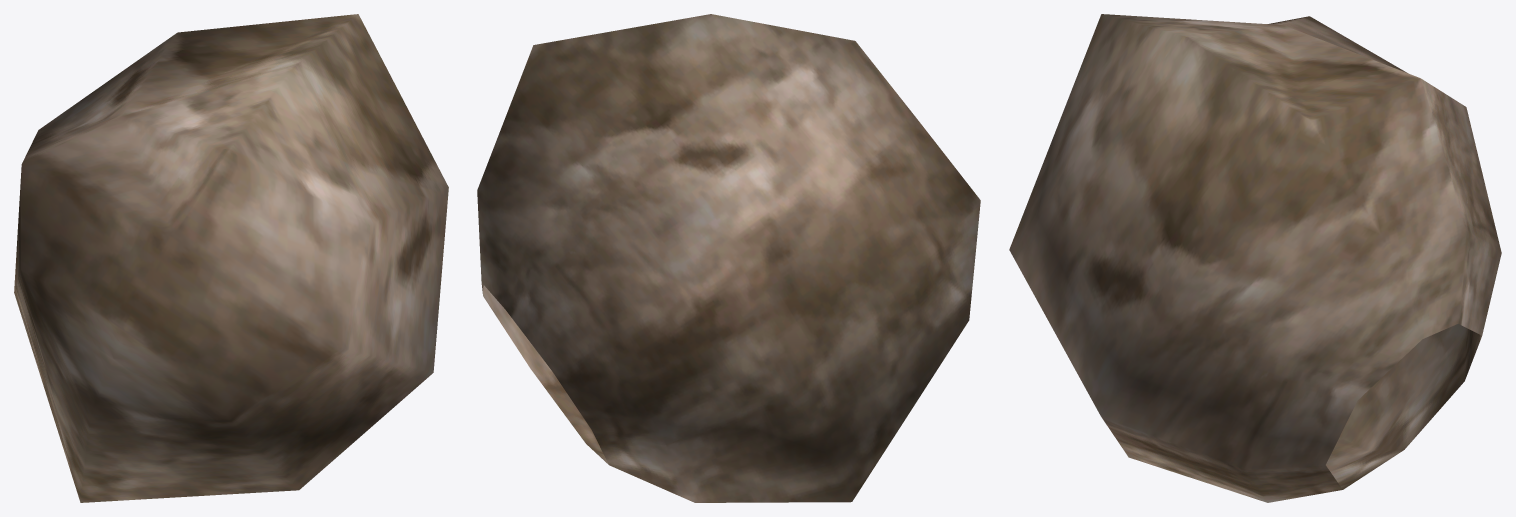
File: OVERHILL_A_01_ROCK77.fbx
3 views of the same model, side by side, from view 1: azimuth 30°, elevation 25°; view 2: azimuth 150°, elevation 25°; view 3: azimuth 270°, elevation 25° (orthographic). The views are drawn at different scales.
Visible parts, largest first — view 1: OVERHILL_A_01_ROCK77; view 2: OVERHILL_A_01_ROCK77; view 3: OVERHILL_A_01_ROCK77.
Boxes of the visible parts, x1,y1,x2,y2 form: OVERHILL_A_01_ROCK77: (14, 14, 448, 502); OVERHILL_A_01_ROCK77: (477, 14, 980, 502); OVERHILL_A_01_ROCK77: (1009, 14, 1501, 502).
Bounding box in the file's own units: 6245 × 5989 × 5875.
1 material, 1 textured.
